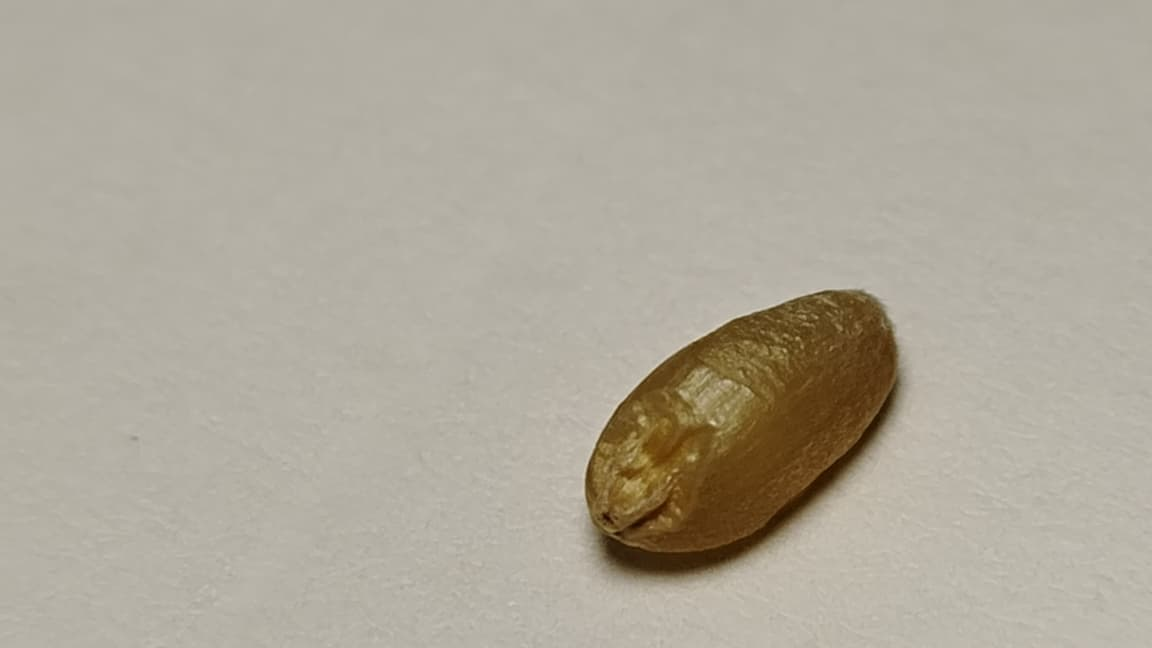healthy: (586, 290, 897, 552)
